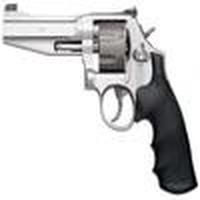gun: (1, 7, 200, 166)
